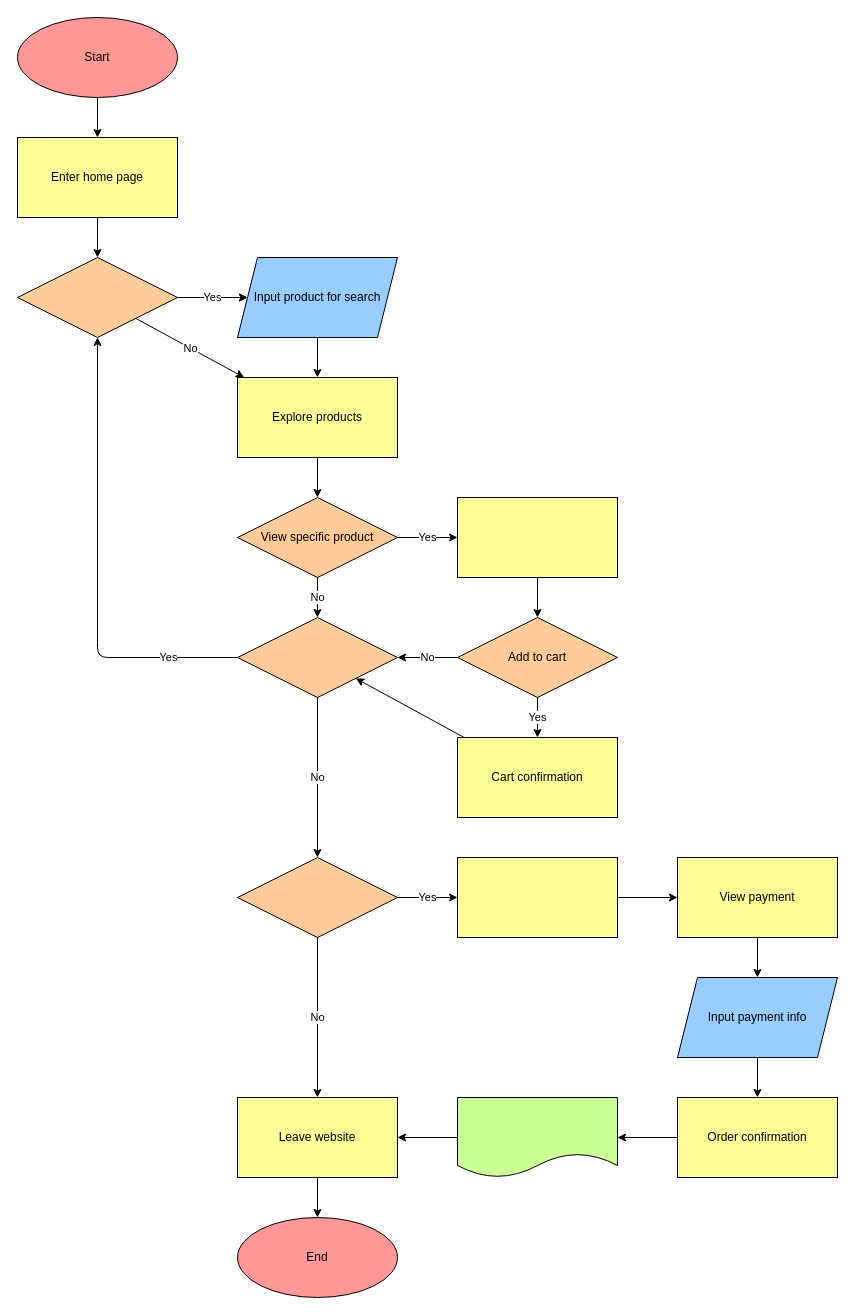
This 855x1315 diagram has some shape labels left out. The centre of each missing label's shape, as x and y in pixels:
"Checkout" belongs at (317,897).
"Confirmation email" belongs at (537,1137).
"Continue shopping" belongs at (317,657).
"Product page opens" belongs at (537,537).
"Search for product" belongs at (97,297).
"View cart" belongs at (537,897).
